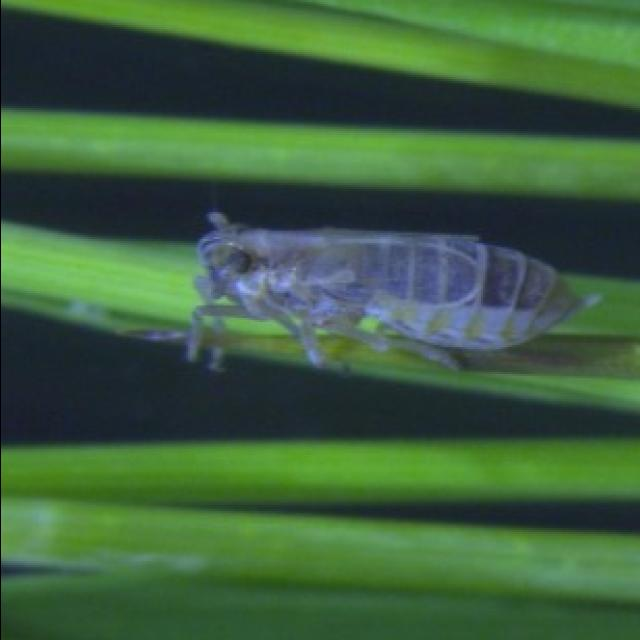brown plant hopper: (182, 212, 594, 368)
